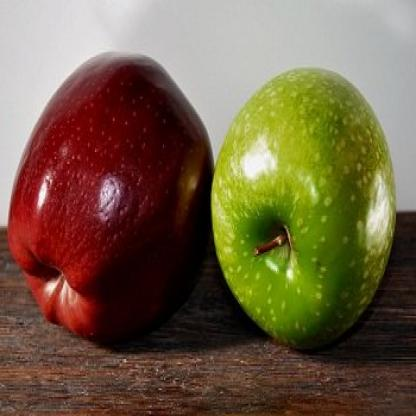apple: (6, 48, 219, 346)
